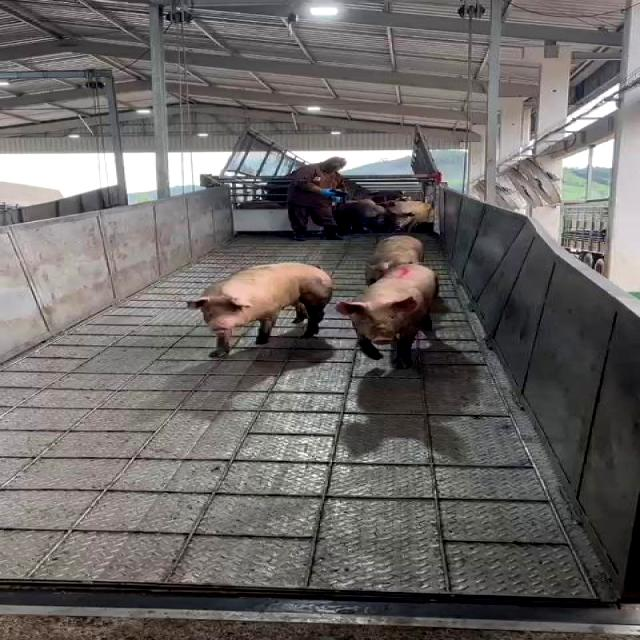pig: (189, 263, 333, 356), (338, 265, 436, 367), (365, 235, 423, 283)
